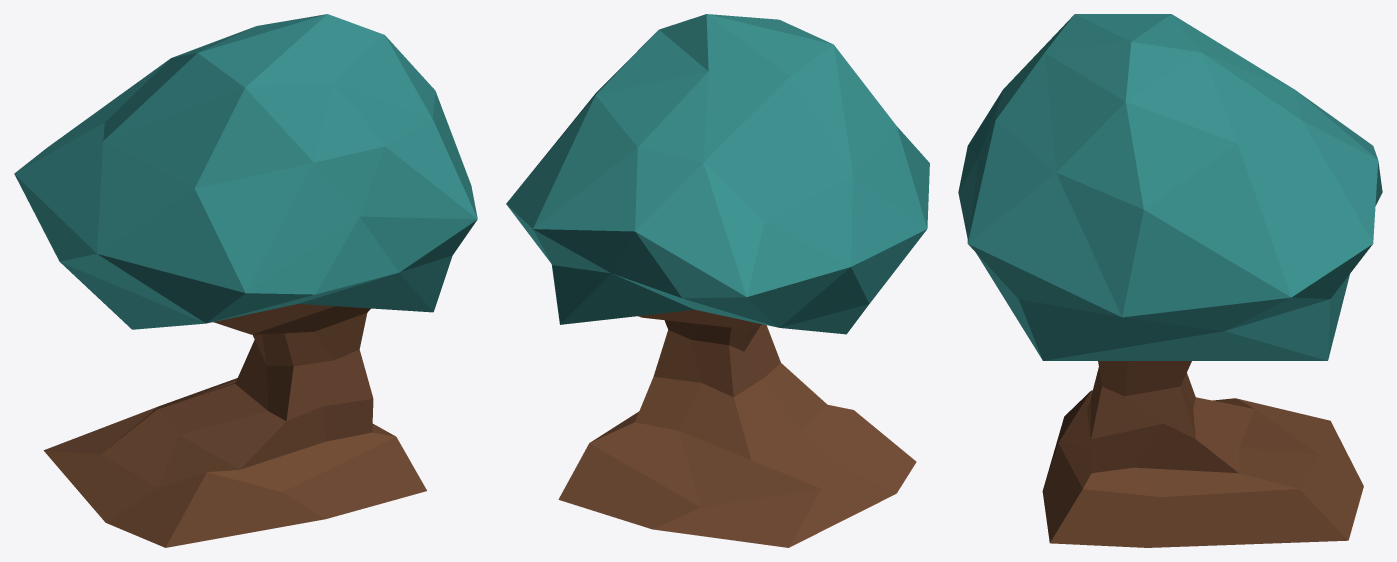
File: Tree_25_Blue.fbx
The picture shows the model from 3 angles, left to right: view 1: azimuth 30°, elevation 25°; view 2: azimuth 150°, elevation 25°; view 3: azimuth 270°, elevation 25°; orthographic projection. The views are drawn at different scales.
Visible parts, largest first — view 1: Tree_25_Blue_Part_1, Tree_25_Blue_Part_3, Tree_25_Blue_Part_2; view 2: Tree_25_Blue_Part_1, Tree_25_Blue_Part_3, Tree_25_Blue_Part_2; view 3: Tree_25_Blue_Part_1, Tree_25_Blue_Part_3, Tree_25_Blue_Part_2.
Boxes of the visible parts, x1,y1,x2,y2 form: Tree_25_Blue_Part_1: (14,14,477,329); Tree_25_Blue_Part_3: (43,378,426,547); Tree_25_Blue_Part_2: (158,304,373,469); Tree_25_Blue_Part_1: (506,14,929,334); Tree_25_Blue_Part_3: (558,405,916,547); Tree_25_Blue_Part_2: (635,309,827,460); Tree_25_Blue_Part_1: (958,14,1382,360); Tree_25_Blue_Part_3: (1042,390,1363,547); Tree_25_Blue_Part_2: (1087,361,1254,473).
Size of the model in its own units: 666 by 786 by 641.
